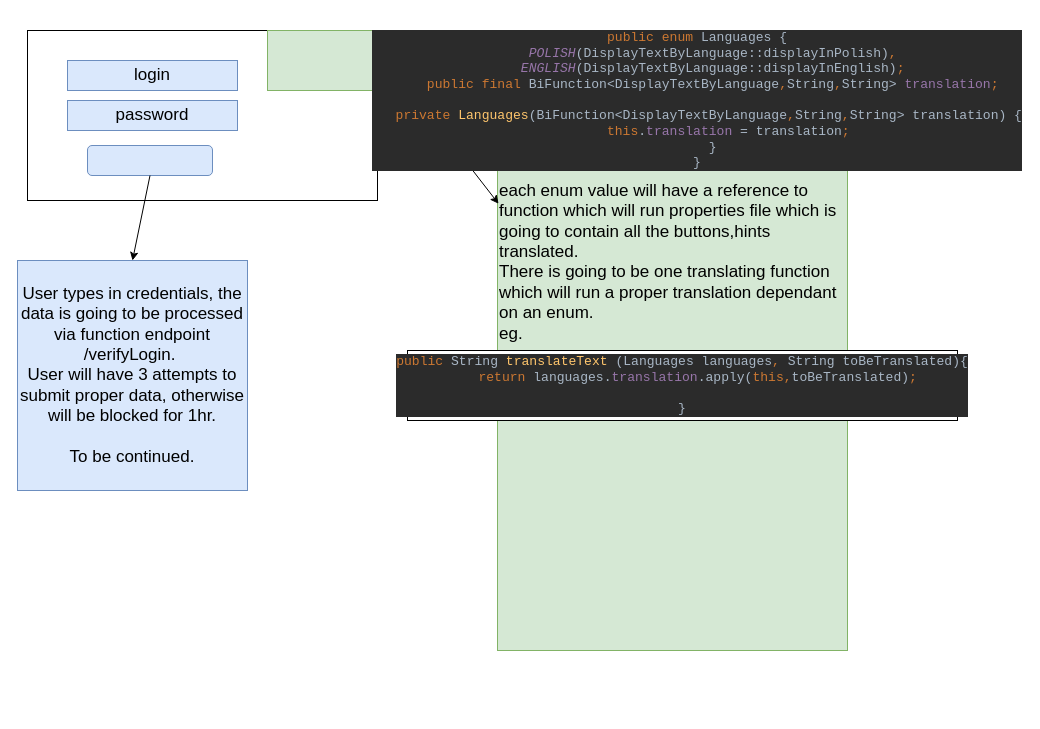
This 1040x729 diagram has some shape labels left out. Here are the shapes that lost their labels. From the top down, the box of each, then its label:
(266, 30, 388, 90): dropdown: laguage of choice
(86, 144, 212, 176): submitButton
